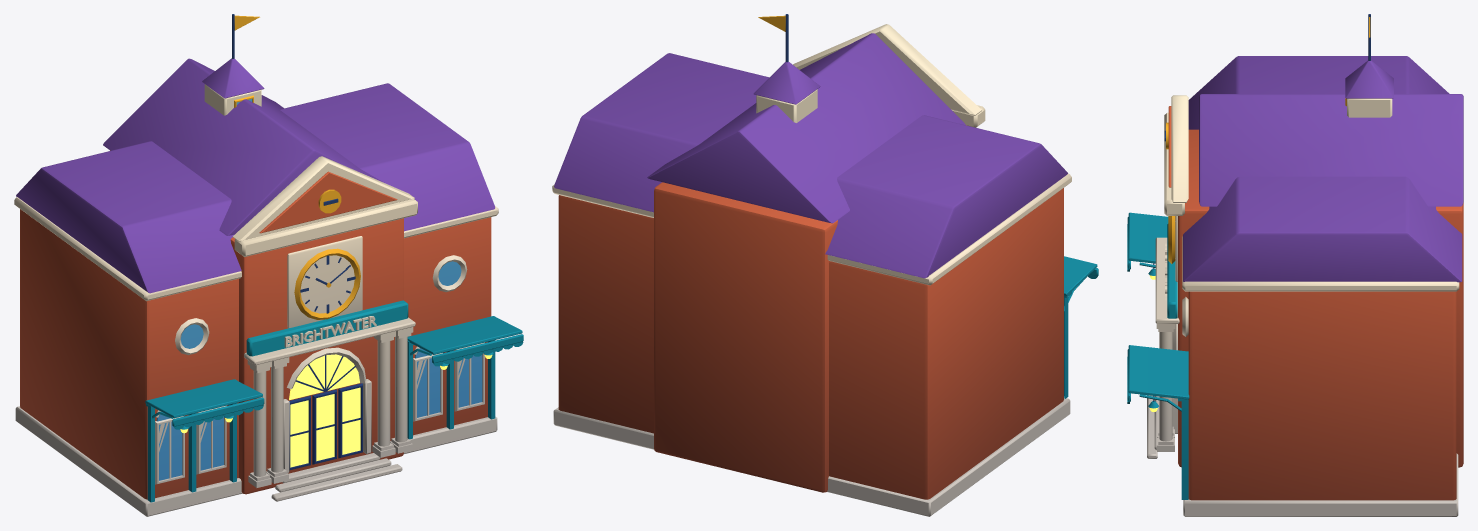
File: station.glb
3 views of the same model, side by side, from view 1: azimuth 30°, elevation 25°; view 2: azimuth 150°, elevation 25°; view 3: azimuth 270°, elevation 25° (orthographic). The views are drawn at different scales.
Parts seen in each view (by area): view 1: station; view 2: station; view 3: station.
Part boxes in pixels (<box>): station: <box>14,14,523,516</box>; station: <box>552,14,1098,516</box>; station: <box>1127,14,1463,516</box>.
Bounding box in the file's own units: 12.3 × 13.1 × 9.66.
